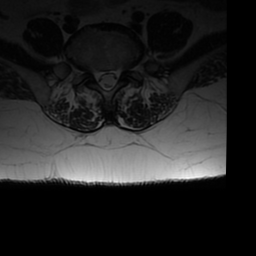CCS_normal: (103, 61, 111, 98)
LFS_severe_stenosis: (120, 59, 129, 81)
LLS_normal: (111, 60, 120, 92)
RFS_severe_stenosis: (84, 59, 93, 84)
RLS_normal: (93, 62, 103, 93)
